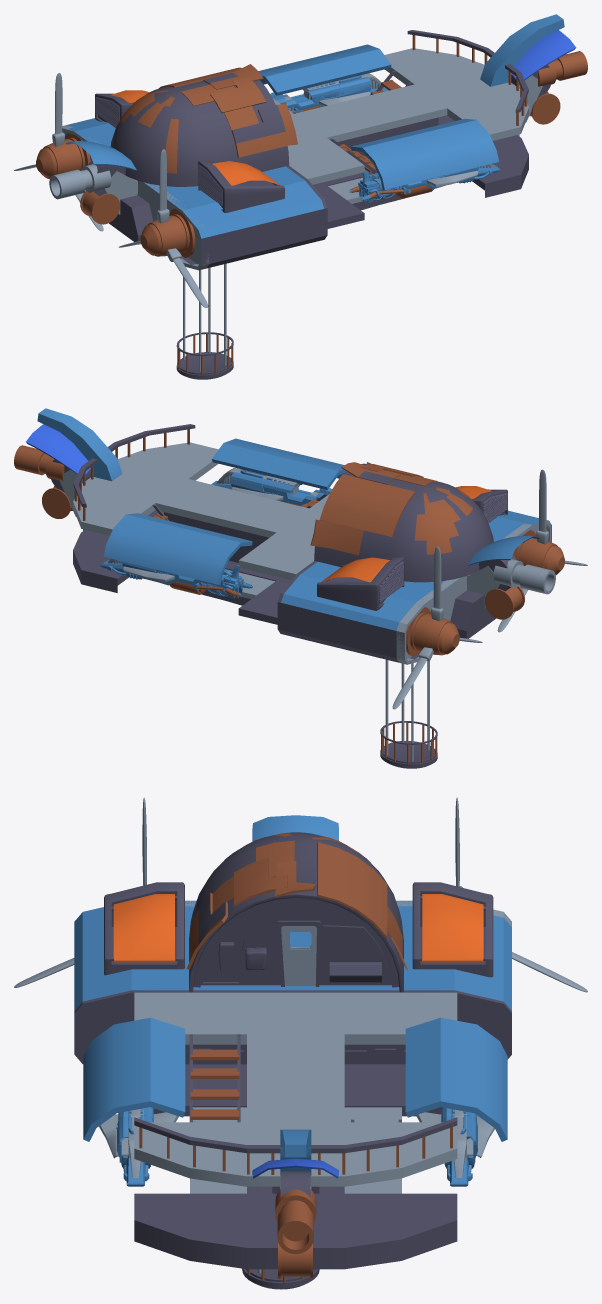
Rendered from vaisseau_grand.fbx.
The picture shows the model from 3 angles, top to bottom: view 1: azimuth 30°, elevation 25°; view 2: azimuth 150°, elevation 25°; view 3: azimuth 270°, elevation 25°; orthographic projection. The views are drawn at different scales.
Visible parts, largest first — view 1: coque_cabine, Cube, Plane.006, Plane.001, Cube.001, Plane, Cube.011, Cube.008, Plane.007, Plane.003, Cylinder.030, Cylinder.029 (+15 smaller); view 2: Cube, coque_cabine, Plane.006, Plane, Cube.001, Plane.001, Cube.010, Plane.007, Cube.008, Plane.003, Cylinder.029, Cylinder.003 (+15 smaller); view 3: Cube, coque_cabine, Cube.001, Plane.006, Plane.001, Plane, Cube.010, Cube.011, Cube.044, Cube.057, Plane.007, Plane.003 (+10 smaller).
Boxes of the visible parts, x1,y1,x2,y2 form: coque_cabine: [110, 64, 297, 186]; Cube: [272, 48, 528, 184]; Plane.006: [62, 118, 327, 270]; Plane.001: [351, 118, 499, 189]; Cube.001: [313, 115, 528, 228]; Plane: [258, 44, 391, 95]; Cube.011: [198, 161, 284, 213]; Cube.008: [480, 14, 564, 86]; Plane.007: [270, 73, 388, 113]; Plane.003: [349, 164, 500, 202]; Cylinder.030: [140, 208, 195, 257]; Cylinder.029: [36, 133, 90, 178]; Cube: [73, 442, 329, 579]; coque_cabine: [310, 462, 493, 582]; Plane.006: [277, 510, 551, 664]; Plane: [103, 513, 252, 584]; Cube.001: [73, 510, 291, 624]; Plane.001: [212, 438, 346, 490]; Cube.010: [317, 557, 404, 610]; Plane.007: [101, 558, 252, 598]; Cube.008: [37, 408, 122, 481]; Plane.003: [211, 468, 332, 506]; Cylinder.029: [406, 607, 459, 656]; Cylinder.003: [493, 559, 555, 594]; Cube: [134, 992, 457, 1193]; coque_cabine: [186, 832, 407, 992]; Cube.001: [134, 1064, 457, 1269]; Plane.006: [74, 900, 511, 1064]; Plane.001: [83, 1017, 185, 1141]; Plane: [405, 1017, 507, 1141]; Cube.010: [412, 882, 493, 977]; Cube.011: [104, 882, 184, 975]; Cube.044: [189, 1034, 240, 1122]; Cube.057: [134, 1117, 457, 1153]; Plane.007: [416, 1107, 494, 1186]; Plane.003: [99, 1107, 178, 1186].
Bounding box in the file's own units: 5841 × 3018 × 3688.
